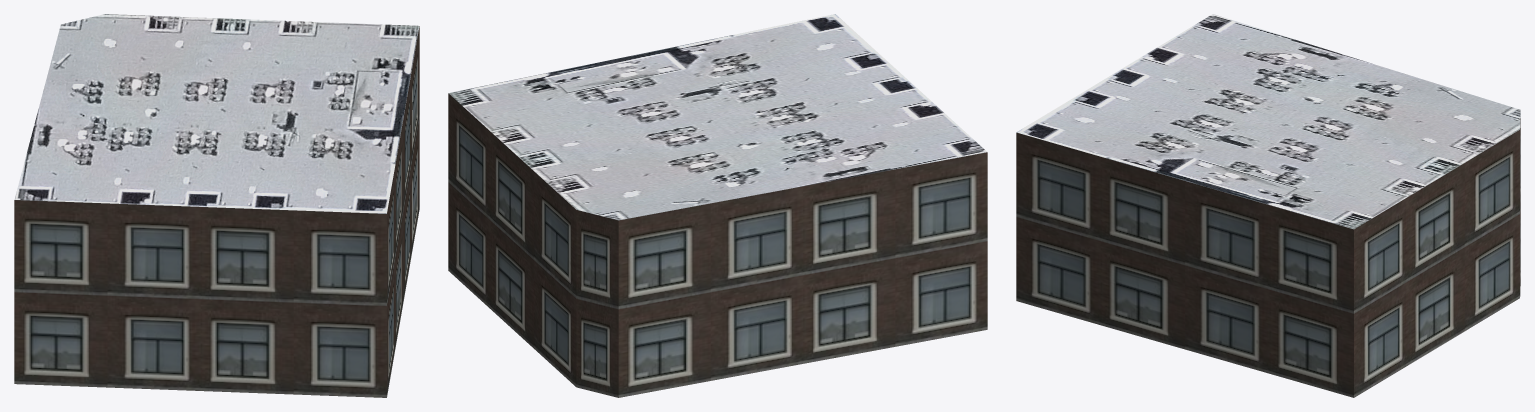
File: ResTex__1118.fbx
3 views of the same model, side by side, from view 1: azimuth 30°, elevation 25°; view 2: azimuth 150°, elevation 25°; view 3: azimuth 270°, elevation 25° (orthographic). The views are drawn at different scales.
Parts seen in each view (by area): view 1: CityEngineMaterial_16_m, CityEngineMaterial_15_m; view 2: CityEngineMaterial_16_m, CityEngineMaterial_15_m; view 3: CityEngineMaterial_16_m, CityEngineMaterial_15_m.
Boxes of the visible parts, left/top/right/bottom form: CityEngineMaterial_16_m: left=14, top=26, right=419, bottom=397; CityEngineMaterial_15_m: left=14, top=14, right=419, bottom=213; CityEngineMaterial_16_m: left=448, top=93, right=987, bottom=397; CityEngineMaterial_15_m: left=448, top=14, right=987, bottom=220; CityEngineMaterial_16_m: left=1016, top=118, right=1520, bottom=397; CityEngineMaterial_15_m: left=1016, top=14, right=1520, bottom=229.
Bounding box in the file's own units: 16.44 × 6 × 16.27.
Materials: 2 (2 with a texture image).
